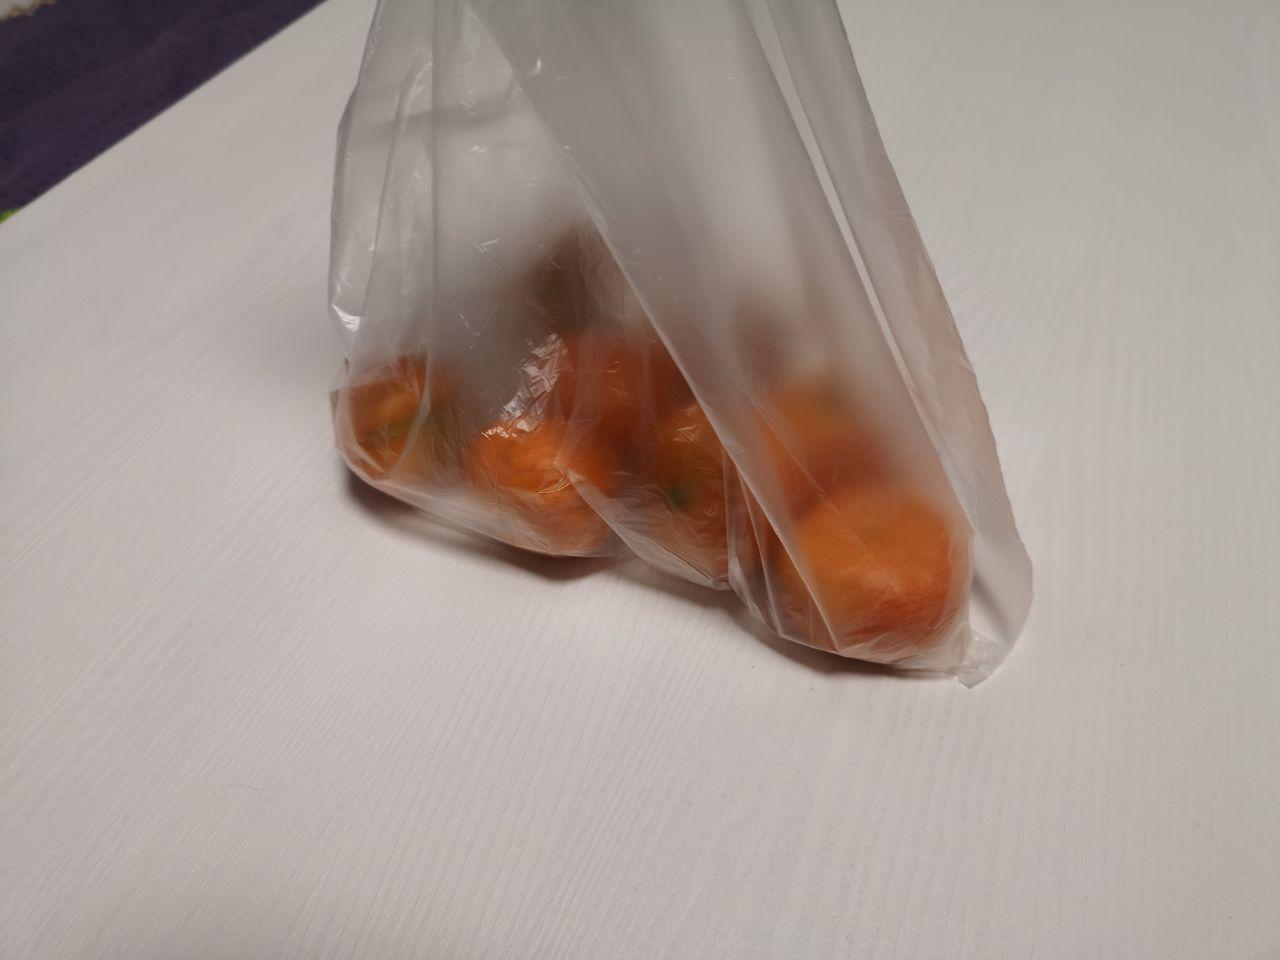clementin: (314, 156, 1038, 703)
